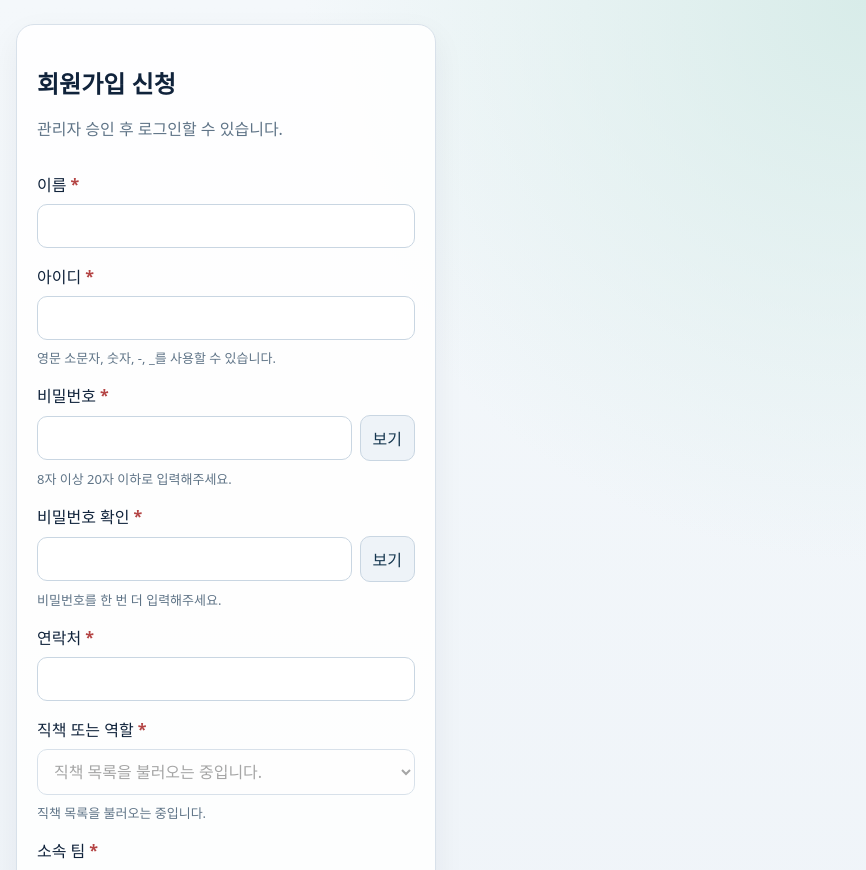
Test case: auth signup request page › formats the phone number as the user types and strips non-digit characters
In the field labelled "연락처 *": (226, 679) [37, 657, 415, 701], type "010abc2222!3333"
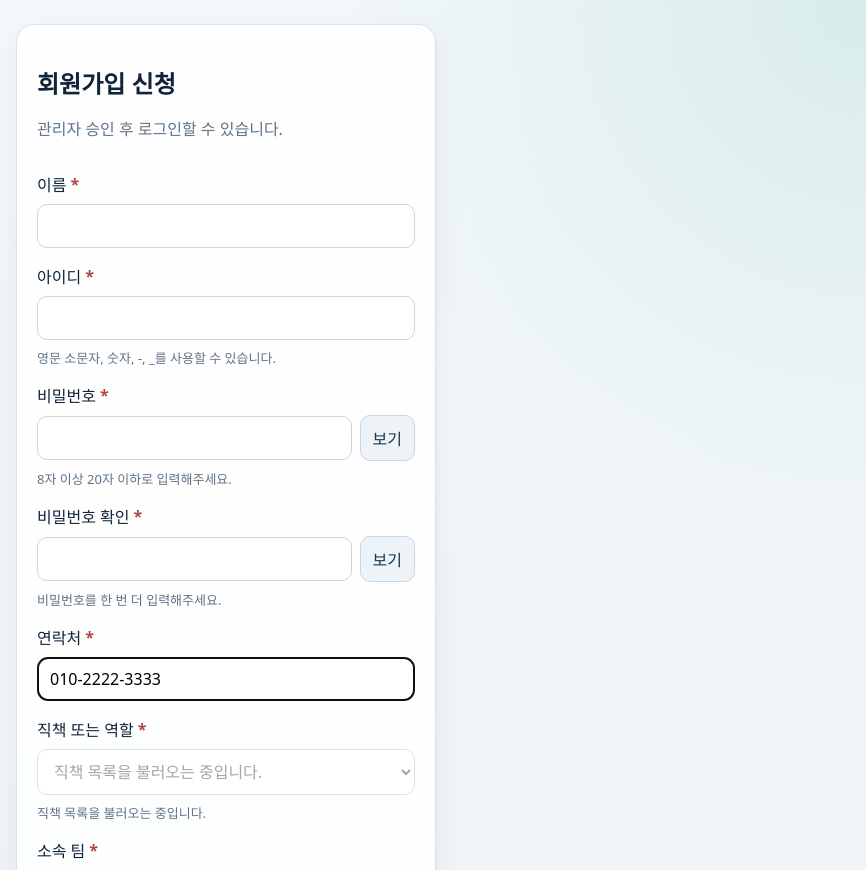
Result: the field labelled "연락처 *" holds "010-2222-3333" at [37, 657, 415, 701]
